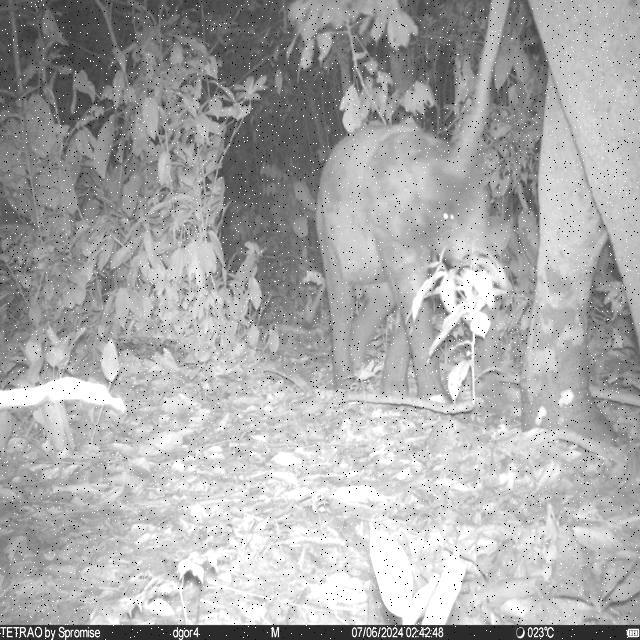calf: (313, 128, 492, 402)
elephant: (405, 1, 640, 447)
